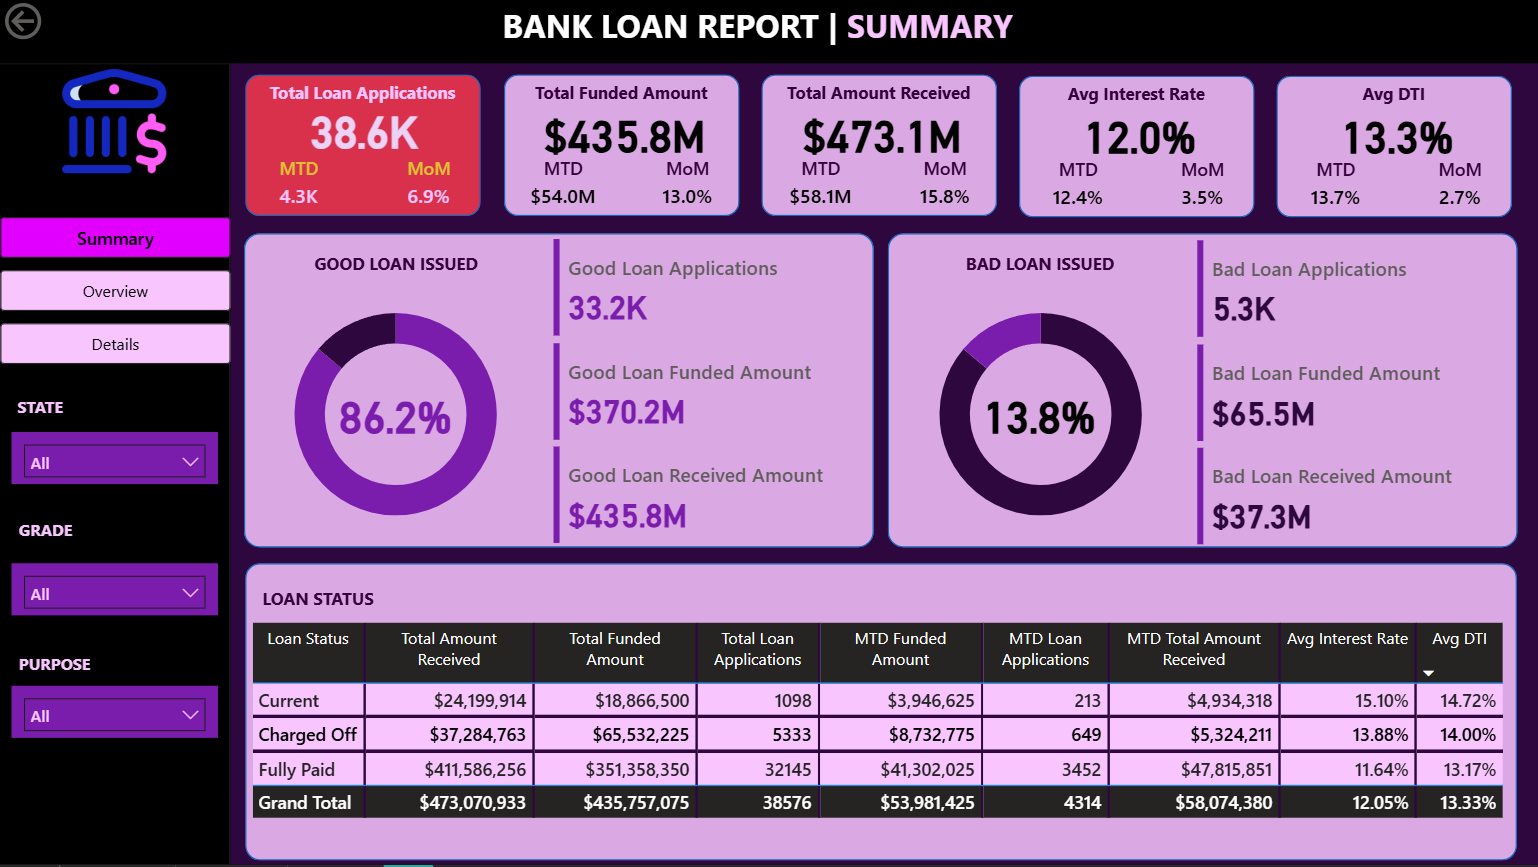

The dashboard page shown, as its layout file describes it:
{"tool":"powerbi","page":{"name":"Summary","canvas":[1280,720],"ordinal":0},"visuals":[{"type":"shape","box":[0,54.7,191.9,665.1],"z":0},{"type":"shape","box":[204.7,64,195.3,117.4],"z":0,"group":"g1"},{"type":"shape","box":[418.4,64.2,195.3,117.4],"z":0,"group":"g2"},{"type":"shape","box":[632,64.5,195.3,117.4],"z":0,"group":"g3"},{"type":"shape","box":[845.7,64.8,195.3,117.4],"z":0,"group":"g4"},{"type":"shape","box":[1059.3,65.1,195.3,117.4],"z":0,"group":"g5"},{"type":"shape","box":[0,0,1280.2,55],"z":1000},{"type":"card","fields":{"Values":["financial_loan.Total Loan Applications"]},"box":[248.8,78,108.1,64],"z":1000,"group":"g1"},{"type":"card","fields":{"Values":["financial_loan.Total Funded Amount"]},"box":[443.7,84,148.8,58.1],"z":1000,"group":"g2"},{"type":"card","fields":{"Values":["financial_loan.Total Amount Received"]},"box":[657.3,84.3,148.8,58.1],"z":1000,"group":"g3"},{"type":"card","fields":{"Values":["financial_loan.Avg Interest Rate"]},"box":[871,84.6,148.8,58.1],"z":1000,"group":"g4"},{"type":"card","fields":{"Values":["financial_loan.Avg DTI"]},"box":[1084.6,84.9,148.8,58.1],"z":1000,"group":"g5"},{"type":"textbox","box":[203.5,64,196.5,30.2],"z":2000,"group":"g1"},{"type":"textbox","box":[417.2,64.2,196.5,30.2],"z":2000,"group":"g2"},{"type":"textbox","box":[630.8,64.5,196.5,30.2],"z":2000,"group":"g3"},{"type":"textbox","box":[844.5,64.8,196.5,30.2],"z":2000,"group":"g4"},{"type":"textbox","box":[1058.1,65.1,196.5,30.2],"z":2000,"group":"g5"},{"type":"shape","box":[203.5,195.3,522.1,260.5],"z":2000},{"type":"card","title":"MTD","fields":{"Values":["financial_loan.MTD Loan Applications"]},"box":[220.9,131.4,55.8,50],"z":3000,"group":"g1"},{"type":"card","title":"MTD","fields":{"Values":["financial_loan.MTD Funded Amount"]},"box":[434.4,131.7,65.1,50],"z":3000,"group":"g2"},{"type":"card","title":"MTD","fields":{"Values":["financial_loan.MTD Total Amount Received"]},"box":[648,132,65.1,50],"z":3000,"group":"g3"},{"type":"card","title":"MTD","fields":{"Values":["financial_loan.MTD Avg Interest Rate"]},"box":[861.7,132.3,65.1,50],"z":3000,"group":"g4"},{"type":"card","title":"MTD","fields":{"Values":["financial_loan.MTD Avg DTI"]},"box":[1075.3,132.6,65.1,50],"z":3000,"group":"g5"},{"type":"textbox","box":[231.4,205.8,196.5,30.2],"z":3000},{"type":"textbox","box":[412.8,0,454.7,64],"z":4000},{"type":"card","title":"MoM","fields":{"Values":["financial_loan.MOM Loan Applications"]},"box":[329.1,131.4,55.8,50],"z":4000,"group":"g1"},{"type":"card","title":"MoM","fields":{"Values":["financial_loan.MOM Funded Amount"]},"box":[542.8,131.6,55.8,50],"z":4000,"group":"g2"},{"type":"card","title":"MoM","fields":{"Values":["financial_loan.MOM Total Amount Recieved"]},"box":[756.4,131.9,55.8,50],"z":4000,"group":"g3"},{"type":"card","title":"MoM","fields":{"Values":["financial_loan.MOM Avg Interest Rate"]},"box":[970.1,132.2,55.8,50],"z":4000,"group":"g4"},{"type":"card","title":"MoM","fields":{"Values":["financial_loan.MOM Avg DTI"]},"box":[1183.7,132.5,55.8,50],"z":4000,"group":"g5"},{"type":"group","id":"g1","title":"Group 1","box":[203.5,64,196.5,117.4],"z":5000},{"type":"group","id":"g2","title":"Group 1","box":[417.2,64.2,196.5,117.4],"z":6000},{"type":"group","id":"g3","title":"Group 1","box":[630.8,64.5,196.5,117.4],"z":7000},{"type":"group","id":"g4","title":"Group 1","box":[844.5,64.8,196.5,117.4],"z":8000},{"type":"group","id":"g5","title":"Group 1","box":[1058.1,65.1,196.5,117.4],"z":9000},{"type":"shape","box":[737.2,195.3,522.1,260.5],"z":10000},{"type":"donutChart","fields":{"Category":["financial_loan.Good VS Bad Loan"],"Y":["financial_loan.Total Loan Applications"]},"box":[204.7,236,250,219.8],"z":11000},{"type":"card","fields":{"Values":["financial_loan.Good Loan %"]},"box":[273.3,317.4,110.5,58.1],"z":12000},{"type":"cardVisual","fields":{"Data":["financial_loan.Good Loan Applications","financial_loan.Good Loan Funded Amount","financial_loan.Good Loan Received Amount"]},"box":[454.7,195.3,270.9,264],"z":13000},{"type":"donutChart","fields":{"Category":["financial_loan.Good VS Bad Loan"],"Y":["financial_loan.Total Loan Applications"]},"box":[738.4,236,250,219.8],"z":14000},{"type":"textbox","box":[765.1,205.8,196.5,30.2],"z":15000},{"type":"card","fields":{"Values":["financial_loan.Bad Loan %"]},"box":[807,317.4,110.5,58.1],"z":16000},{"type":"cardVisual","fields":{"Data":["financial_loan.Bad Loan Applications","financial_loan.Bad Loan Funded Amount","financial_loan.Bad Loan Received Amount"]},"box":[988.4,196.5,270.9,264],"z":17000},{"type":"shape","box":[204.7,469.8,1054.7,246.5],"z":18000},{"type":"tableEx","fields":{"Values":["financial_loan.loan_status","financial_loan.Total Amount Received","financial_loan.Total Funded Amount","financial_loan.Total Loan Applications","financial_loan.MTD Funded Amount","financial_loan.MTD Loan Applications","financial_loan.MTD Total Amount Received","financial_loan.Avg Interest Rate","financial_loan.Avg DTI"]},"box":[204.7,514,1050,202.3],"z":19000},{"type":"actionButton","box":[0,0,100,40],"z":20000},{"type":"textbox","box":[214,483.7,125.6,30.2],"z":21000},{"type":"slicer","fields":{"Values":["financial_loan.address_state"]},"box":[10.5,360.5,170.9,43],"z":22000},{"type":"textbox","box":[10.5,325.6,64,32.6],"z":23000},{"type":"slicer","fields":{"Values":["financial_loan.grade"]},"box":[10.5,469.8,170.9,43],"z":24000},{"type":"textbox","box":[11.6,427.9,64,32.6],"z":25000},{"type":"slicer","fields":{"Values":["financial_loan.purpose"]},"box":[10.5,570.9,170.9,43],"z":26000},{"type":"textbox","box":[11.6,538.4,84.9,32.6],"z":27000},{"type":"image","box":[43,54.7,103.5,96.5],"z":28000},{"type":"pageNavigator","box":[1.2,182.6,191.9,122.1],"z":29000}]}

Visuals, with their boxes in screenshot pixels (x1, y1, x2, y2), scaled from the page's 1280x720 canvas onto the 1538x867 screenshot:
shape: [left=0, top=66, right=231, bottom=866]
shape: [left=246, top=77, right=481, bottom=218]
shape: [left=503, top=77, right=737, bottom=219]
shape: [left=759, top=78, right=994, bottom=219]
shape: [left=1016, top=78, right=1251, bottom=219]
shape: [left=1273, top=78, right=1507, bottom=220]
shape: [left=0, top=0, right=1537, bottom=66]
card - financial_loan.Total Loan Applications: [left=299, top=94, right=429, bottom=171]
card - financial_loan.Total Funded Amount: [left=533, top=101, right=712, bottom=171]
card - financial_loan.Total Amount Received: [left=790, top=102, right=969, bottom=171]
card - financial_loan.Avg Interest Rate: [left=1047, top=102, right=1225, bottom=172]
card - financial_loan.Avg DTI: [left=1303, top=102, right=1482, bottom=172]
textbox: [left=245, top=77, right=481, bottom=113]
textbox: [left=501, top=77, right=737, bottom=114]
textbox: [left=758, top=78, right=994, bottom=114]
textbox: [left=1015, top=78, right=1251, bottom=114]
textbox: [left=1271, top=78, right=1507, bottom=115]
shape: [left=245, top=235, right=872, bottom=549]
"MTD" card: [left=265, top=158, right=332, bottom=218]
"MTD" card: [left=522, top=159, right=600, bottom=219]
"MTD" card: [left=779, top=159, right=857, bottom=219]
"MTD" card: [left=1035, top=159, right=1114, bottom=220]
"MTD" card: [left=1292, top=160, right=1370, bottom=220]
textbox: [left=278, top=248, right=514, bottom=284]
textbox: [left=496, top=0, right=1042, bottom=77]
"MoM" card: [left=395, top=158, right=462, bottom=218]
"MoM" card: [left=652, top=158, right=719, bottom=219]
"MoM" card: [left=909, top=159, right=976, bottom=219]
"MoM" card: [left=1166, top=159, right=1233, bottom=219]
"MoM" card: [left=1422, top=160, right=1489, bottom=220]
"Group 1" group: [left=245, top=77, right=481, bottom=218]
"Group 1" group: [left=501, top=77, right=737, bottom=219]
"Group 1" group: [left=758, top=78, right=994, bottom=219]
"Group 1" group: [left=1015, top=78, right=1251, bottom=219]
"Group 1" group: [left=1271, top=78, right=1507, bottom=220]
shape: [left=886, top=235, right=1513, bottom=549]
donutChart - financial_loan.Good VS Bad Loan x financial_loan.Total Loan Applications: [left=246, top=284, right=546, bottom=549]
card - financial_loan.Good Loan %: [left=328, top=382, right=461, bottom=452]
cardVisual - financial_loan.Good Loan Applications x financial_loan.Good Loan Funded Amount: [left=546, top=235, right=872, bottom=553]
donutChart - financial_loan.Good VS Bad Loan x financial_loan.Total Loan Applications: [left=887, top=284, right=1188, bottom=549]
textbox: [left=919, top=248, right=1155, bottom=284]
card - financial_loan.Bad Loan %: [left=970, top=382, right=1102, bottom=452]
cardVisual - financial_loan.Bad Loan Applications x financial_loan.Bad Loan Funded Amount: [left=1188, top=237, right=1513, bottom=555]
shape: [left=246, top=566, right=1513, bottom=863]
tableEx - financial_loan.loan_status x financial_loan.Total Amount Received: [left=246, top=619, right=1508, bottom=863]
actionButton: [left=0, top=0, right=120, bottom=48]
textbox: [left=257, top=582, right=408, bottom=619]
slicer - financial_loan.address_state: [left=13, top=434, right=218, bottom=486]
textbox: [left=13, top=392, right=90, bottom=431]
slicer - financial_loan.grade: [left=13, top=566, right=218, bottom=617]
textbox: [left=14, top=515, right=91, bottom=555]
slicer - financial_loan.purpose: [left=13, top=687, right=218, bottom=739]
textbox: [left=14, top=648, right=116, bottom=688]
image: [left=52, top=66, right=176, bottom=182]
pageNavigator: [left=1, top=220, right=232, bottom=367]
